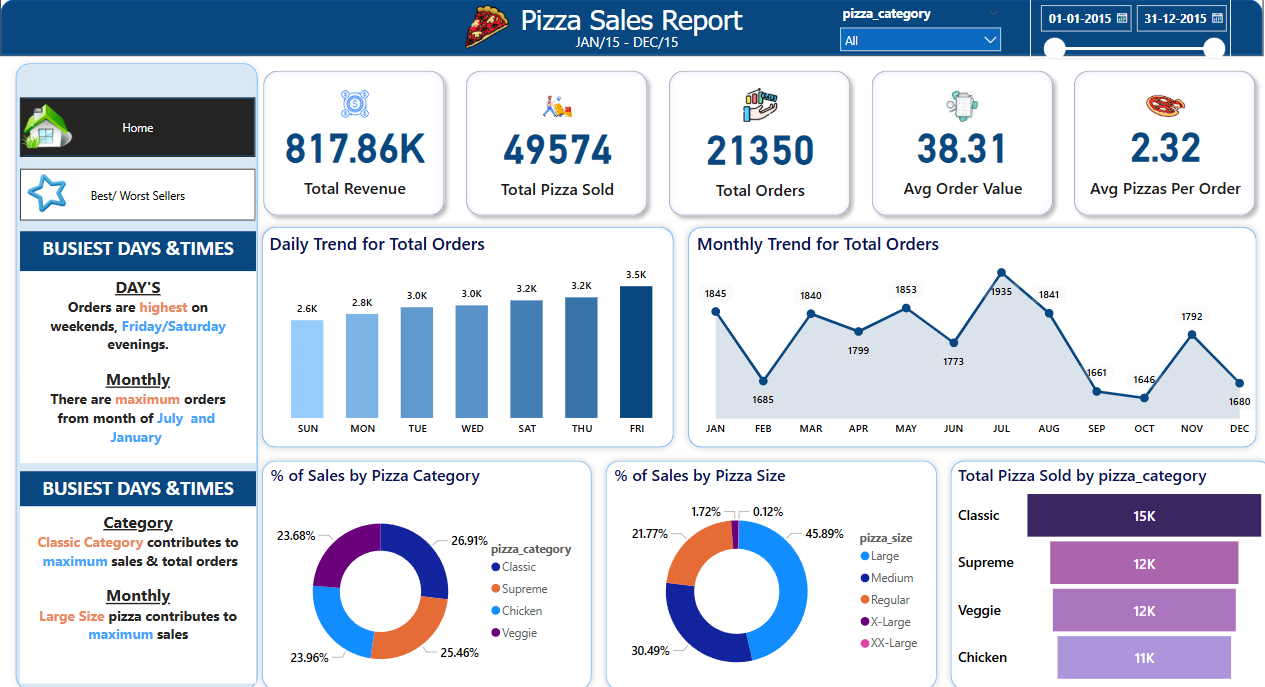

The page's visual inventory and layout, read from the dashboard file:
{"tool":"powerbi","page":{"name":"Home","canvas":[1500,820],"ordinal":0},"visuals":[{"type":"cardVisual","fields":{"Data":["pizza_sales.Total Revenue","pizza_sales.Total Pizza Sold","pizza_sales.Total Orders","pizza_sales.Avg Order Value","pizza_sales.Avg Pizzas Per Order"]},"box":[305.8,77.5,1184.2,202.5],"z":0},{"type":"shape","box":[16.7,10,1465,66.7],"z":1000},{"type":"textbox","box":[565,10,368.3,66.7],"z":2000},{"type":"textbox","box":[680,42.9,140,37.1],"z":3000},{"type":"image","box":[551.7,8.3,60,68.3],"z":4000},{"type":"shape","box":[313.3,266.7,493.3,271.7],"z":5000},{"type":"columnChart","title":"Daily Trend for Total Orders","fields":{"Y":["pizza_sales.Total Orders"],"Category":["pizza_sales.Order Day"]},"box":[325,280,481.7,246.7],"z":6000},{"type":"shape","box":[806.7,266.7,675,271.7],"z":7000},{"type":"areaChart","title":"Monthly Trend for Total Orders","fields":{"Category":["pizza_sales.Order Month"],"Y":["pizza_sales.Total Orders"]},"box":[820,280,661.7,246.7],"z":8000},{"type":"shape","box":[313.3,538.3,398.3,281.7],"z":9000},{"type":"shape","box":[1111.7,538.3,388.3,281.7],"z":10000},{"type":"shape","box":[711.7,538.3,400,281.7],"z":11000},{"type":"donutChart","title":"% of Sales by Pizza Category","fields":{"Category":["pizza_sales.pizza_category"],"Y":["pizza_sales.Total Revenue"]},"box":[325.7,548.6,374.3,271.4],"z":12000},{"type":"donutChart","title":"% of Sales by Pizza Size","fields":{"Y":["pizza_sales.Total Revenue"],"Series":["pizza_sales.pizza_size"]},"box":[724.3,548.6,374.3,271.4],"z":13000},{"type":"funnel","fields":{"Y":["pizza_sales.Total Pizza Sold"],"Category":["pizza_sales.pizza_category"]},"box":[1123.3,548.9,366.7,260],"z":14000},{"type":"shape","box":[27.8,76.7,296.7,743.3],"z":15000},{"type":"textbox","box":[40,280,273.6,46.4],"z":16000},{"type":"textbox","box":[40,326.7,273.3,222.2],"z":17000},{"type":"textbox","box":[40,557.8,273.3,46.7],"z":18000},{"type":"textbox","box":[40,597.9,273.6,205.7],"z":19000},{"type":"slicer","fields":{"Values":["pizza_sales.pizza_category"]},"box":[981.1,11.1,206.7,67.8],"z":20000},{"type":"slicer","fields":{"Values":["pizza_sales.order_date"]},"box":[1211.1,7.8,234.4,72.2],"z":21000},{"type":"pageNavigator","box":[40,124,273,69],"z":21001},{"type":"pageNavigator","box":[40,207,273,60],"z":21002},{"type":"image","box":[28,119,87,80],"z":21003},{"type":"image","box":[28,188,91,93],"z":21004}]}

Visuals, with their boxes in screenshot pixels (x1, y1, x2, y2), scaled from the page's 1500x820 canvas onto the 1265x687 screenshot:
cardVisual - pizza_sales.Total Revenue x pizza_sales.Total Pizza Sold: left=258, top=65, right=1257, bottom=235
shape: left=14, top=8, right=1250, bottom=64
textbox: left=476, top=8, right=787, bottom=64
textbox: left=573, top=36, right=692, bottom=67
image: left=465, top=7, right=516, bottom=64
shape: left=264, top=223, right=680, bottom=451
"Daily Trend for Total Orders" columnChart: left=274, top=235, right=680, bottom=441
shape: left=680, top=223, right=1250, bottom=451
"Monthly Trend for Total Orders" areaChart: left=692, top=235, right=1250, bottom=441
shape: left=264, top=451, right=600, bottom=686
shape: left=938, top=451, right=1264, bottom=686
shape: left=600, top=451, right=938, bottom=686
"% of Sales by Pizza Category" donutChart: left=275, top=460, right=590, bottom=686
"% of Sales by Pizza Size" donutChart: left=611, top=460, right=926, bottom=686
funnel - pizza_sales.Total Pizza Sold x pizza_sales.pizza_category: left=947, top=460, right=1257, bottom=678
shape: left=23, top=64, right=274, bottom=686
textbox: left=34, top=235, right=264, bottom=273
textbox: left=34, top=274, right=264, bottom=460
textbox: left=34, top=467, right=264, bottom=506
textbox: left=34, top=501, right=264, bottom=673
slicer - pizza_sales.pizza_category: left=827, top=9, right=1002, bottom=66
slicer - pizza_sales.order_date: left=1021, top=7, right=1219, bottom=67
pageNavigator: left=34, top=104, right=264, bottom=162
pageNavigator: left=34, top=173, right=264, bottom=224
image: left=24, top=100, right=97, bottom=167
image: left=24, top=158, right=100, bottom=235
